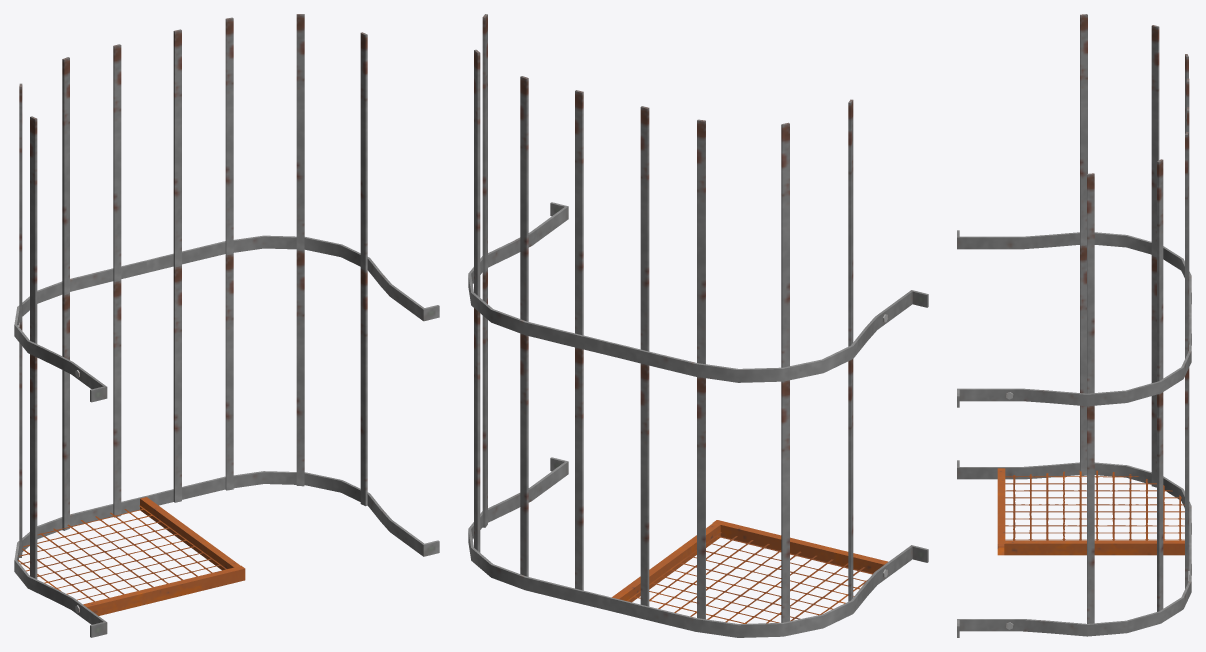
File: CageLadderOpenLeft.fbx
3 renders of one model, left to right at view 1: azimuth 30°, elevation 25°; view 2: azimuth 150°, elevation 25°; view 3: azimuth 270°, elevation 25°, orthographic. The views are drawn at different scales.
Parts seen in each view (by area): view 1: Cage_Ladder_OpenLeft_LOD0; view 2: Cage_Ladder_OpenLeft_LOD0; view 3: Cage_Ladder_OpenLeft_LOD0.
Part boxes in pixels (x1,y1,x2,y2): Cage_Ladder_OpenLeft_LOD0: (14, 14, 439, 637); Cage_Ladder_OpenLeft_LOD0: (468, 14, 928, 637); Cage_Ladder_OpenLeft_LOD0: (957, 14, 1191, 637).
Size of what is drawn, in the model's own units: 1.55 by 2 by 0.9238.
